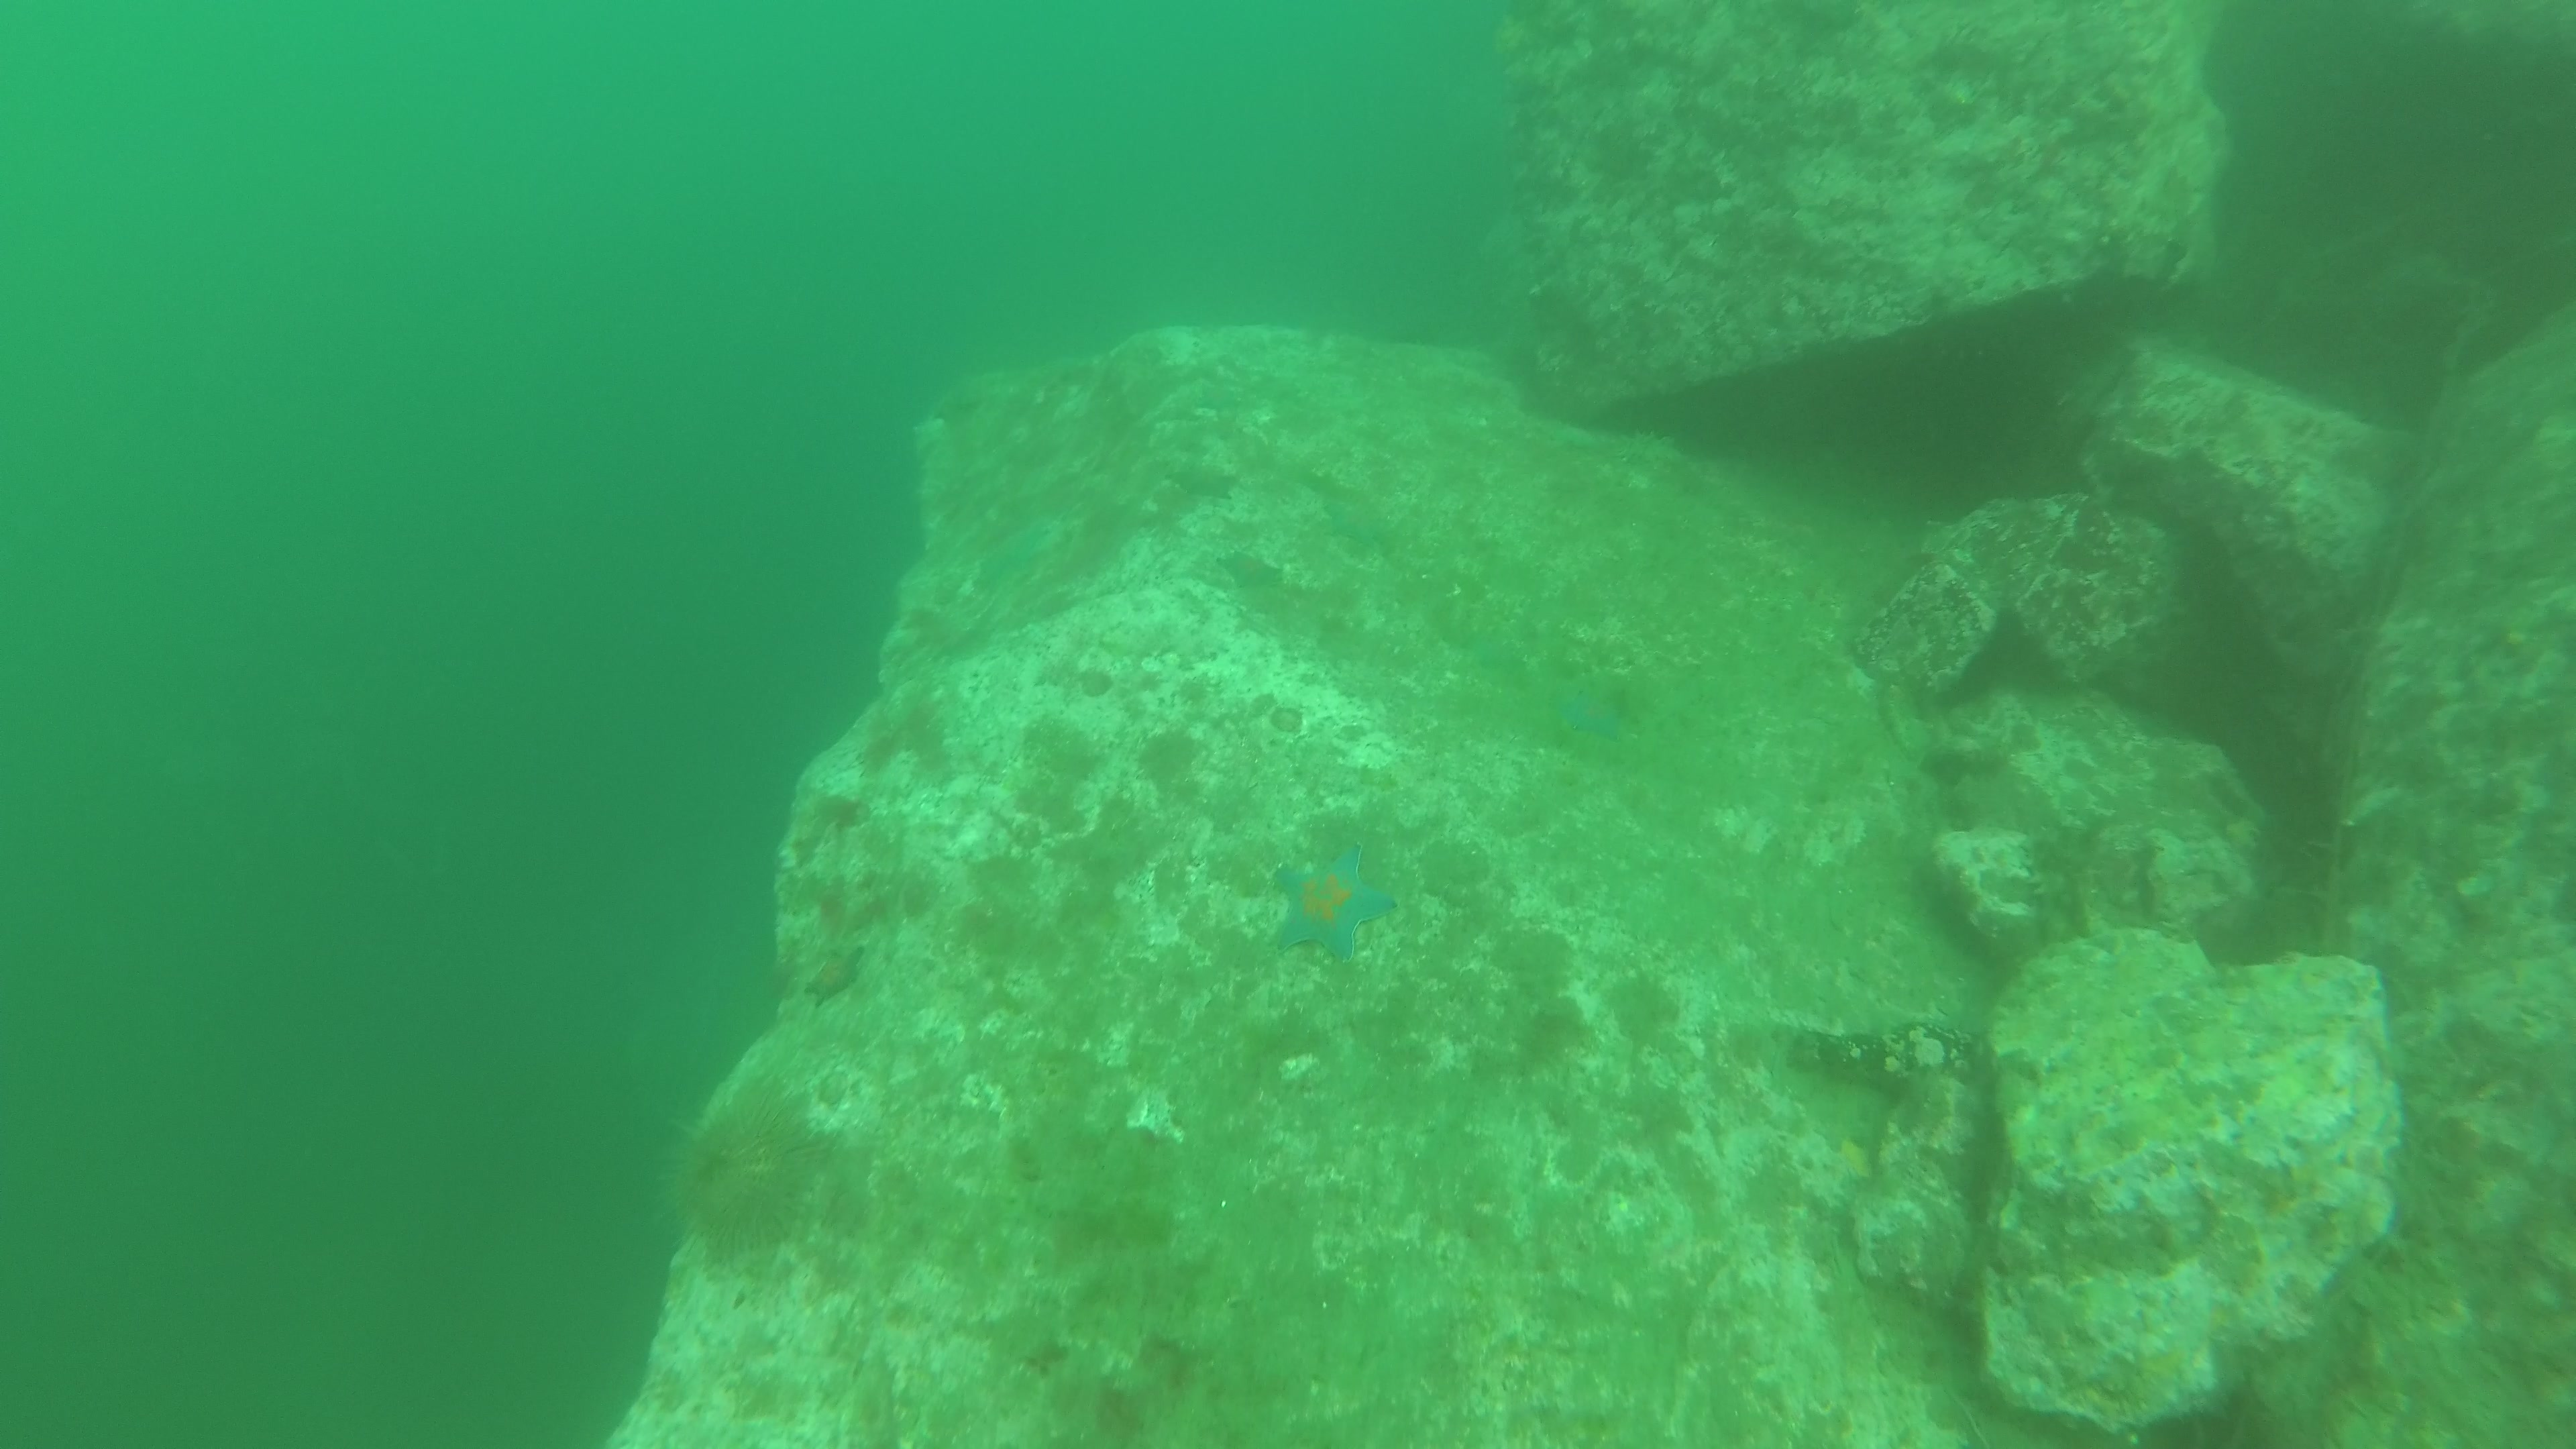echinus: (655, 1092, 837, 1267)
starfish: (1270, 842, 1394, 966), (1555, 686, 1638, 743), (801, 943, 869, 1008)
